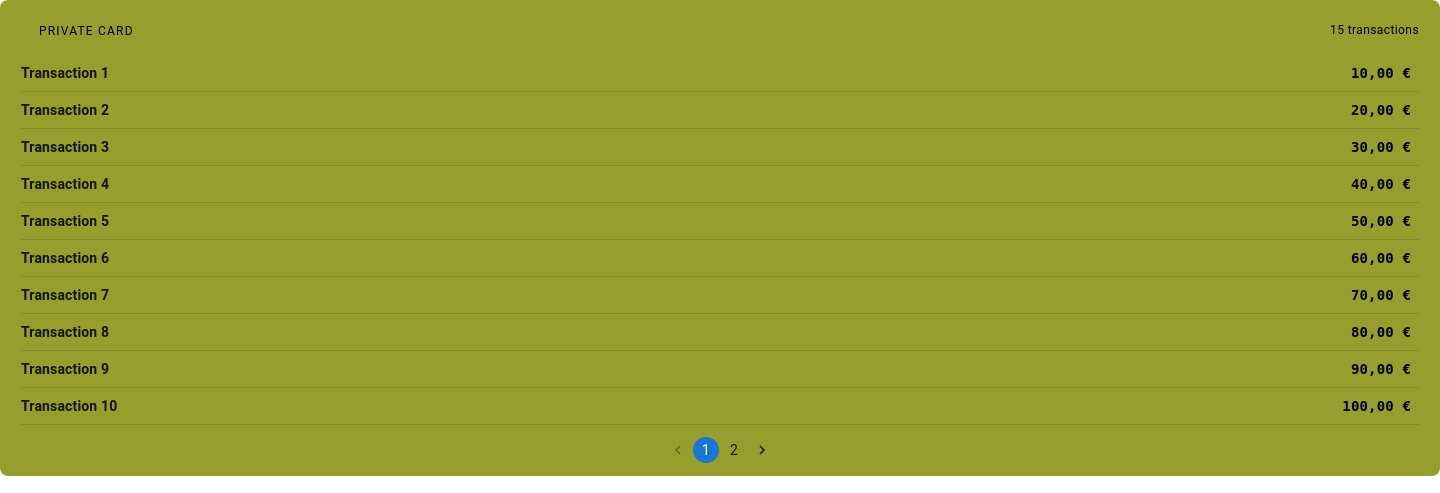
Test: TransactionList — pagination › navigating to page 2 shows remaining items
Click the button named "page 2" at (734, 450), box [721,437,747,463]
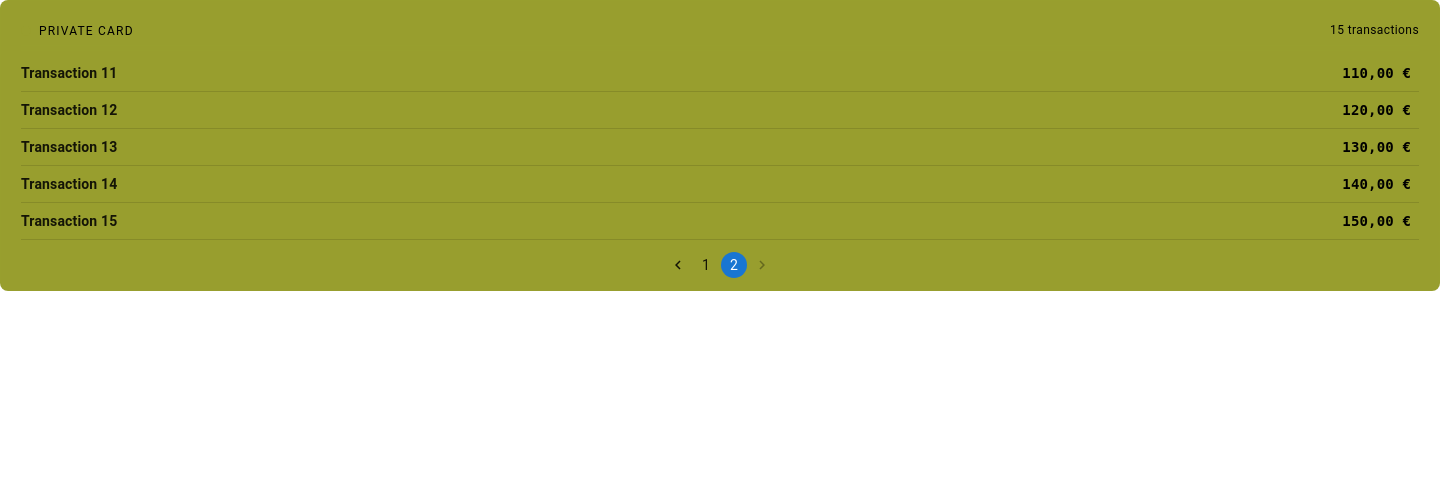
Result: the text "Transaction 11" is shown at [21,65,117,81]
Result: the text "Transaction 15" is shown at [21,213,117,229]
